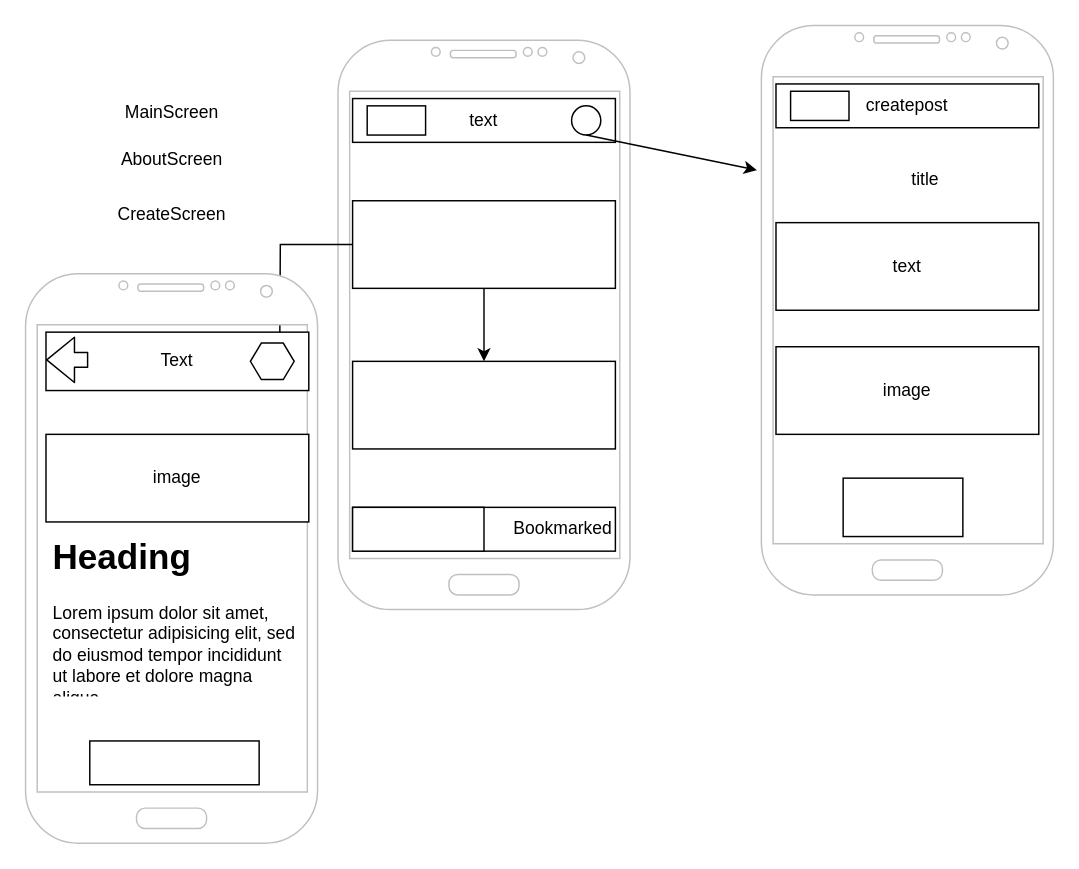
The diagram is 1079 pixels wide and 869 high, and some of its shapes have lost their labels. The centre of each missing label's shape, as x and y in pixels:
"`All" belongs at pixel 417 528.
"delete" belongs at pixel 173 762.
"post" belongs at pixel 483 243.
"save" belongs at pixel 902 507.
